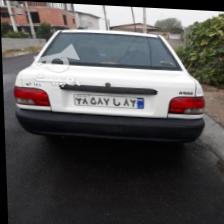plate: (73, 93, 145, 107)
